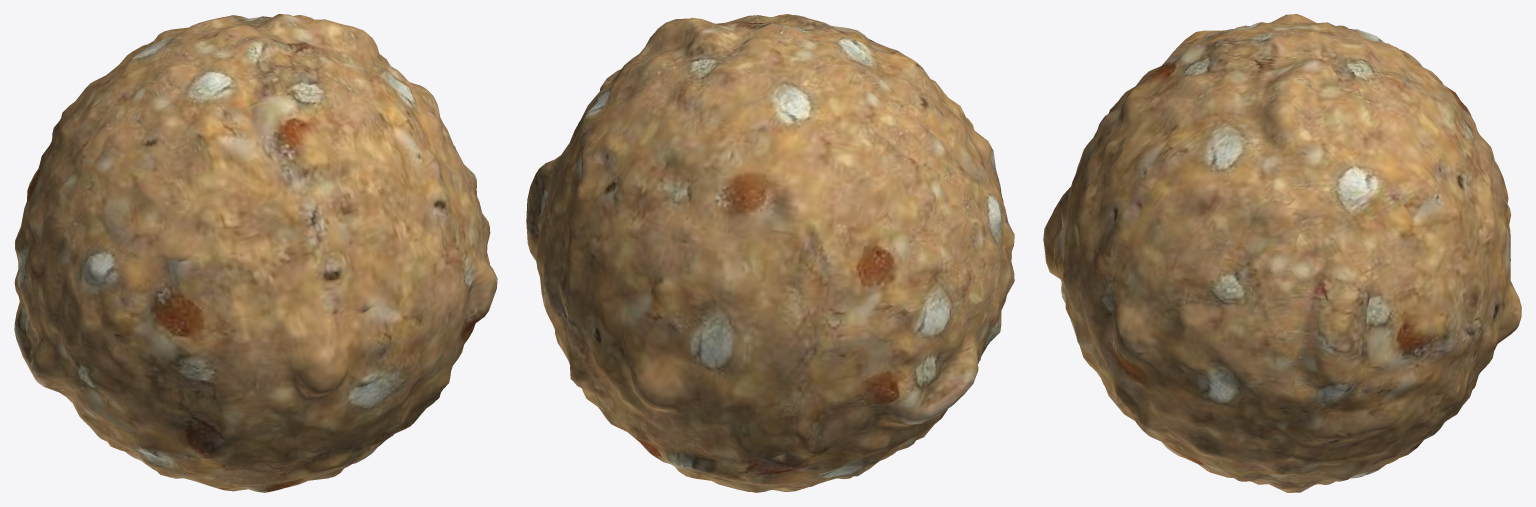
File: laddu.glb
3 renders of one model, left to right at view 1: azimuth 30°, elevation 25°; view 2: azimuth 150°, elevation 25°; view 3: azimuth 270°, elevation 25°, orthographic.
Parts seen in each view (by area): view 1: Laddu; view 2: Laddu; view 3: Laddu.
Boxes of the visible parts, left/top/right/bottom form: Laddu: left=14, top=14, right=497, bottom=492; Laddu: left=526, top=14, right=1014, bottom=492; Laddu: left=1043, top=14, right=1521, bottom=492.
Size of the model in its own units: 2.1 by 2.06 by 2.04.
Materials: 1 (1 with a texture image).
